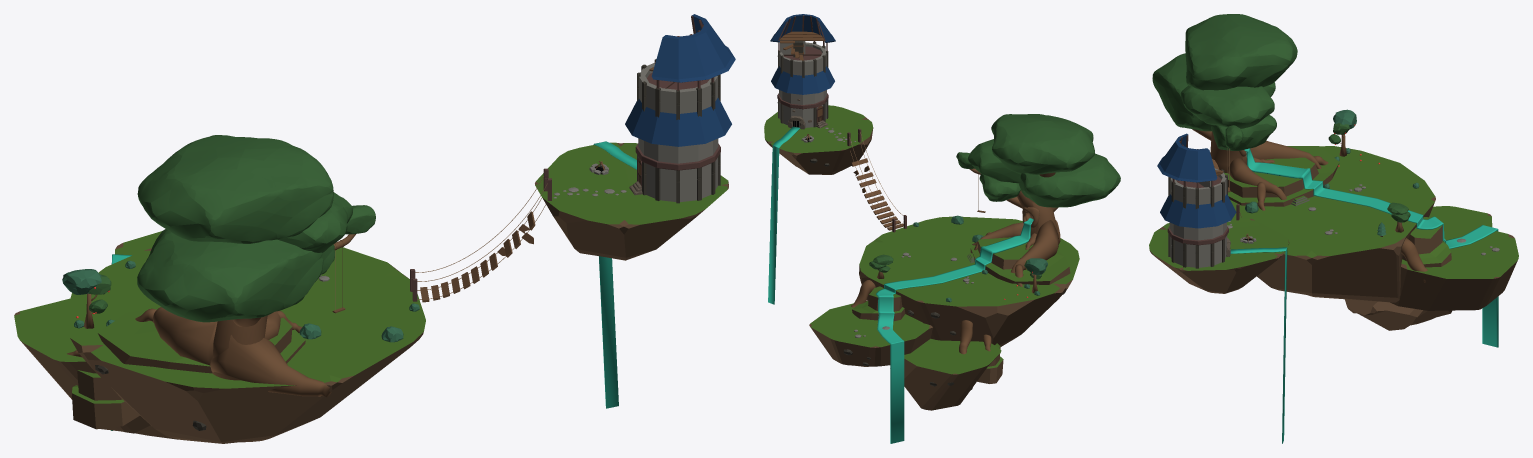
File: BeautifulIsland.fbx
The picture shows the model from 3 angles, left to right: view 1: azimuth 30°, elevation 25°; view 2: azimuth 150°, elevation 25°; view 3: azimuth 270°, elevation 25°; orthographic projection. The views are drawn at different scales.
Visible parts, largest first — view 1: Cube, Cube.256, Cube.010, Cylinder.012, Cylinder.011, Cone.235, Cone.172, Water1, Cube.024, Cube.034, Cube.069, Cube.280; view 2: Cube, Cube.256, Cube.010, Water2, Cylinder.012, Cylinder.011, Water1, Cone.172, Cube.024, Cone.235, Cube.280, Cylinder.025 (+2 smaller); view 3: Cube, Cube.256, Cube.010, Water2, Cylinder.011, Cylinder.012, Cone.235, Cone.172, Water1, Cube.034, Cube.069, Cube.280 (+1 smaller).
Boxes of the visible parts, x1,y1,x2,y2 form: Cube: (14,231,425,443); Cube.256: (137,135,375,322); Cube.010: (535,142,728,260); Cylinder.012: (135,234,355,397); Cylinder.011: (635,63,720,201); Cone.235: (651,14,735,82); Cone.172: (625,98,731,146); Water1: (593,141,636,408); Cube.024: (420,211,535,302); Cube.034: (62,269,111,313); Cube.069: (637,153,720,203); Cube.280: (637,59,720,119); Cube: (809,216,1079,410); Cube.256: (956,114,1120,207); Cube.010: (764,105,873,174); Water2: (876,218,1033,443); Cylinder.012: (969,168,1060,286); Cylinder.011: (777,42,828,127); Water1: (768,126,800,304); Cone.172: (771,66,834,94); Cube.024: (851,158,903,230); Cone.235: (770,14,835,42); Cube.280: (777,42,828,77); Cylinder.025: (959,320,972,354); Cube: (1224,146,1518,330); Cube.256: (1152,14,1297,150); Cube.010: (1149,216,1289,293); Water2: (1244,148,1498,347); Cylinder.011: (1167,168,1228,267); Cylinder.012: (1192,129,1328,210); Cone.235: (1157,133,1217,182); Cone.172: (1160,194,1236,228); Water1: (1230,247,1287,443); Cube.034: (1328,109,1356,144); Cube.069: (1168,233,1224,268); Cube.280: (1168,166,1227,208).
Bounding box in the file's own units: 1096 × 846 × 858.
